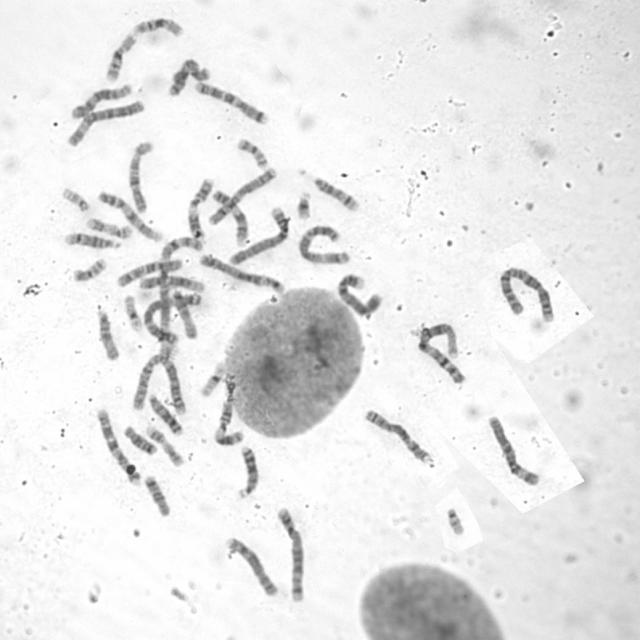A1: (158, 235, 208, 358), (413, 322, 467, 384)
A2: (131, 352, 189, 417), (497, 264, 557, 324)
A3: (142, 292, 202, 345), (295, 223, 354, 264)
B4: (227, 206, 290, 265), (336, 272, 384, 317)
B5: (197, 253, 287, 294), (275, 504, 306, 602)
C10: (127, 139, 158, 215), (115, 258, 184, 288)
C11: (187, 176, 216, 242), (212, 399, 245, 446)
C12: (70, 82, 133, 120), (140, 275, 207, 293)
C6: (486, 413, 542, 486), (66, 99, 146, 148)
C7: (193, 80, 270, 126), (97, 408, 142, 486)
C8: (362, 408, 436, 468), (224, 537, 282, 601)
C9: (97, 190, 166, 242), (212, 189, 250, 247)
D13: (147, 393, 184, 436), (234, 444, 258, 502)
D14: (295, 164, 362, 212), (64, 231, 123, 251)
D15: (170, 288, 198, 340), (96, 308, 122, 362)
E16: (103, 33, 137, 86), (131, 16, 184, 40)
E17: (145, 424, 187, 468), (84, 216, 133, 240)
E18: (144, 474, 173, 519), (122, 425, 158, 457)
F19: (200, 361, 227, 398), (123, 293, 143, 333)
F20: (236, 136, 270, 171), (71, 256, 108, 284)
G21: (294, 188, 312, 220), (222, 370, 238, 402)
G22: (60, 186, 89, 213), (446, 504, 466, 538)
X: (207, 166, 278, 227), (166, 57, 212, 96)
